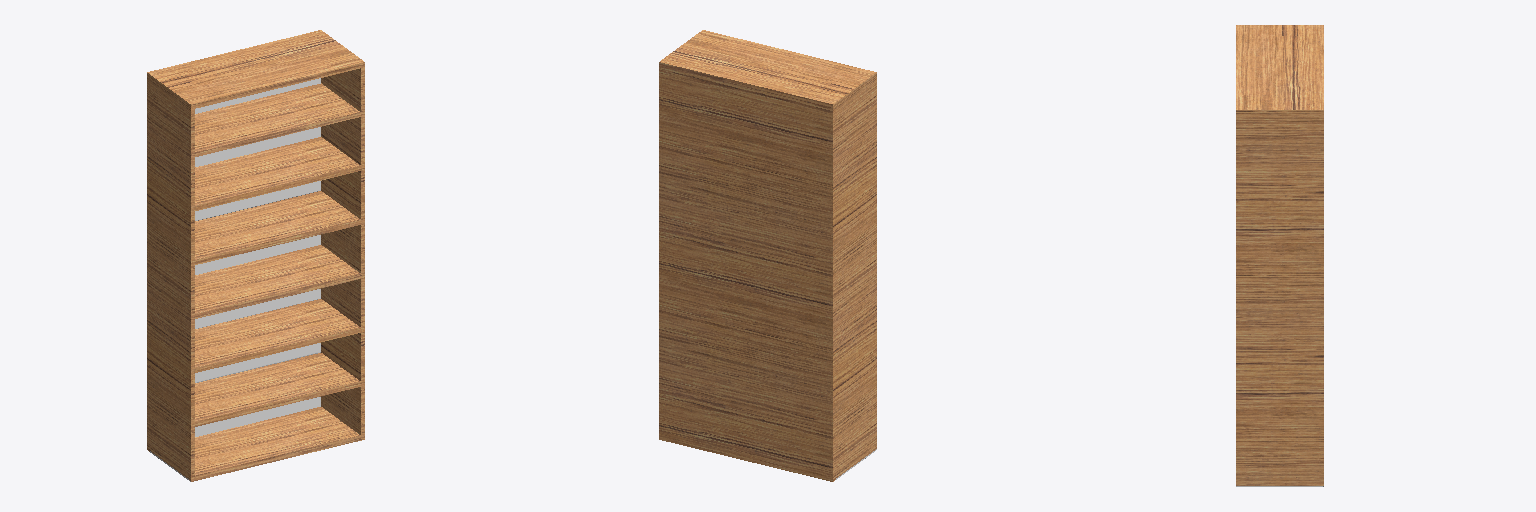
3 views of the same model, side by side, from view 1: azimuth 30°, elevation 25°; view 2: azimuth 150°, elevation 25°; view 3: azimuth 270°, elevation 25° (orthographic).
Visible parts, largest first — view 1: Półka_na_książki_Cube.002; view 2: Półka_na_książki_Cube.002; view 3: Półka_na_książki_Cube.002.
Boxes of the visible parts, x1=… form: Półka_na_książki_Cube.002: x1=147, y1=30, x2=364, y2=481; Półka_na_książki_Cube.002: x1=659, y1=30, x2=876, y2=481; Półka_na_książki_Cube.002: x1=1236, y1=25, x2=1323, y2=486.
Size of the model in its own units: 2 by 4.14 by 0.8732.
1 materials, 1 textured.